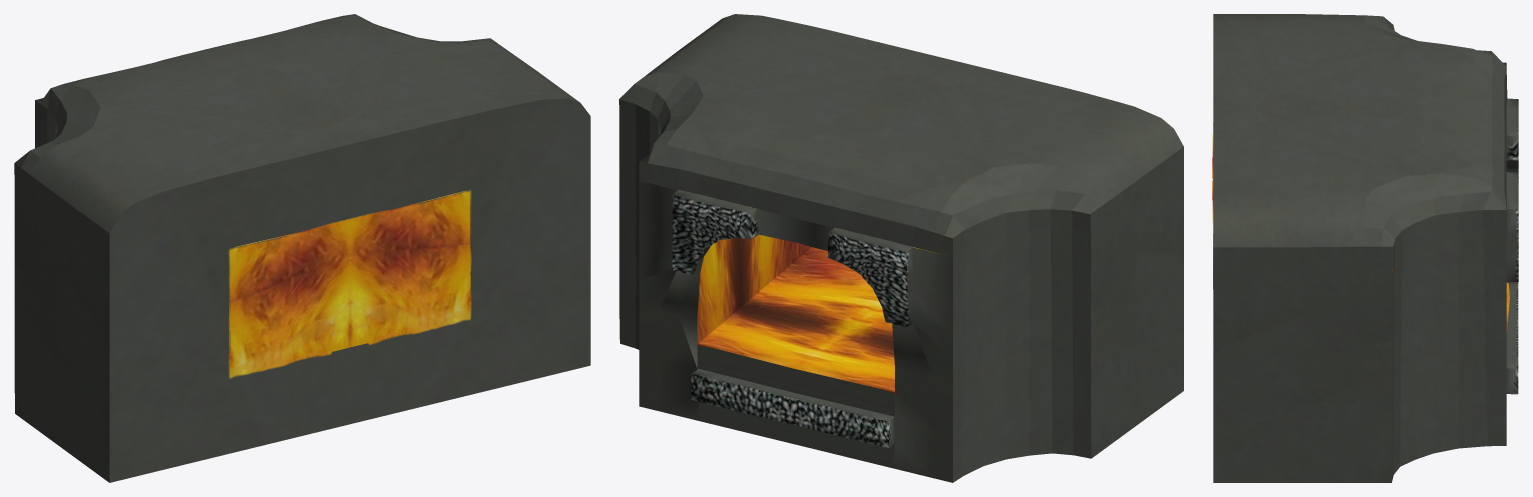
File: piec.FBX
3 views of the same model, side by side, from view 1: azimuth 30°, elevation 25°; view 2: azimuth 150°, elevation 25°; view 3: azimuth 270°, elevation 25° (orthographic). The views are drawn at different scales.
Parts seen in each view (by area): view 1: Box003; view 2: Box003; view 3: Box003.
Boxes of the visible parts, x1,y1,x2,y2 form: Box003: (14,14,590,482); Box003: (619,14,1183,482); Box003: (1212,14,1518,482).
Size of the model in its own units: 89.54 by 49.85 by 52.31.
